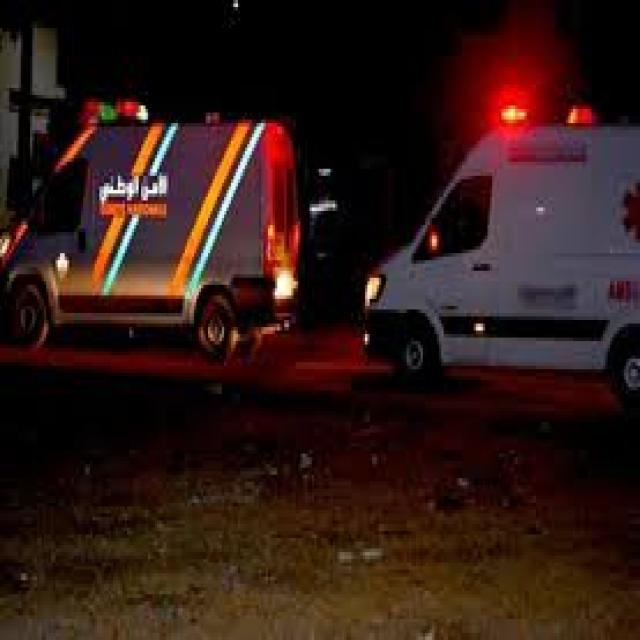ambulance: (364, 92, 640, 378)
police: (5, 93, 299, 343)
